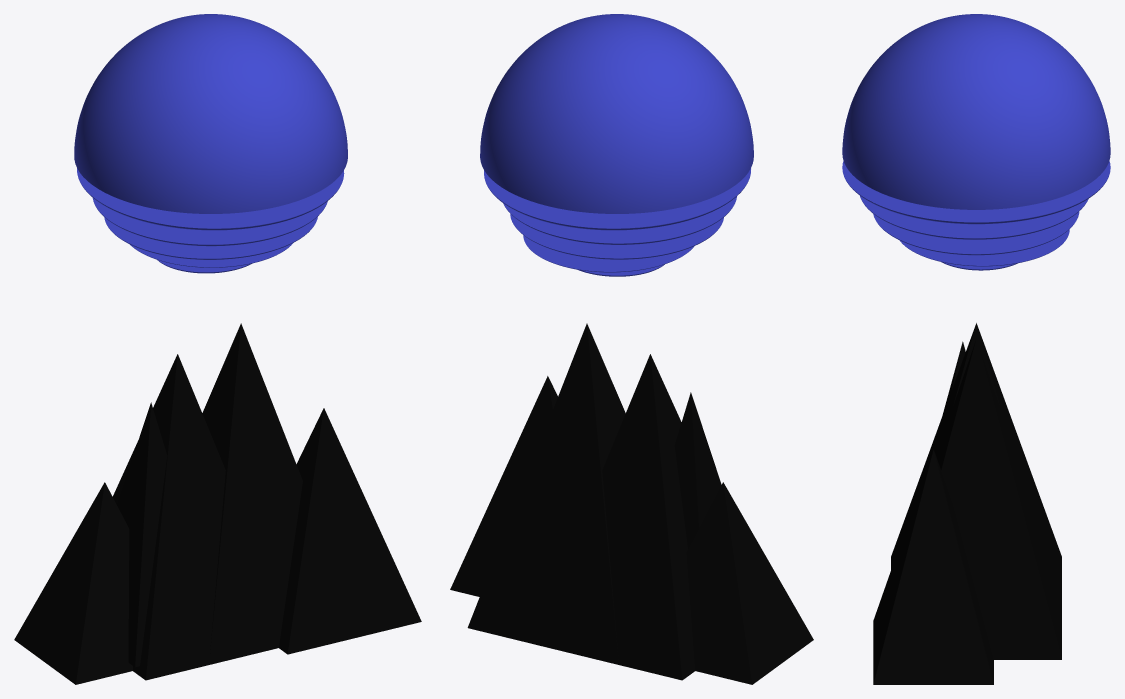
Rendered from VAPORWAVE Art.fbx.
3 renders of one model, left to right at view 1: azimuth 30°, elevation 25°; view 2: azimuth 150°, elevation 25°; view 3: azimuth 270°, elevation 25°, orthographic. The views are drawn at different scales.
Parts seen in each view (by area): view 1: root (×6), node_id86, node_id87, node_id88, node_id89; view 2: root (×6), node_id86, node_id87, node_id88, node_id89; view 3: root (×4), node_id86, node_id87, node_id88, node_id89.
Boxes of the visible parts, <box> form: root (×6): <box>14,14,421,684</box>; node_id86: <box>77,168,344,230</box>; node_id87: <box>92,198,327,246</box>; node_id88: <box>104,216,317,259</box>; node_id89: <box>130,243,292,267</box>; root (×6): <box>450,14,813,684</box>; node_id86: <box>484,168,750,230</box>; node_id87: <box>503,196,736,244</box>; node_id88: <box>510,214,723,259</box>; node_id89: <box>523,235,694,272</box>; root (×4): <box>842,14,1110,684</box>; node_id86: <box>842,161,1110,224</box>; node_id87: <box>860,196,1088,239</box>; node_id88: <box>873,211,1079,255</box>; node_id89: <box>899,229,1069,266</box>.
Size of the model in its own units: 0.3298 by 0.5788 by 0.2413.
